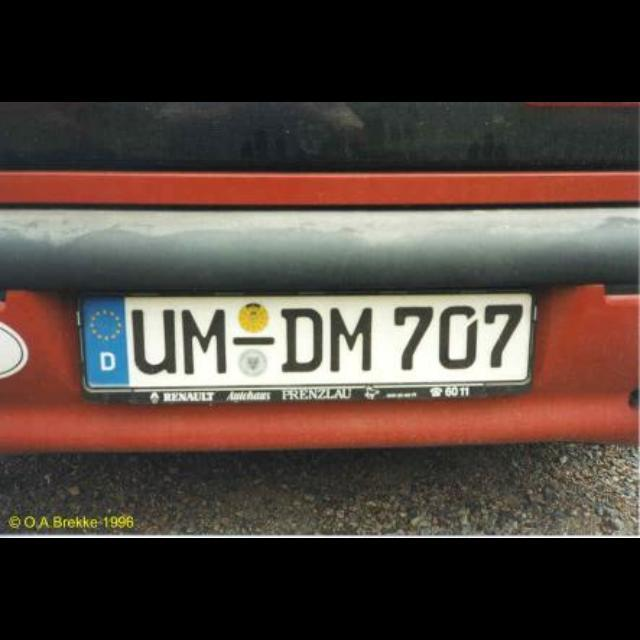license-plates: (79, 293, 536, 405)
